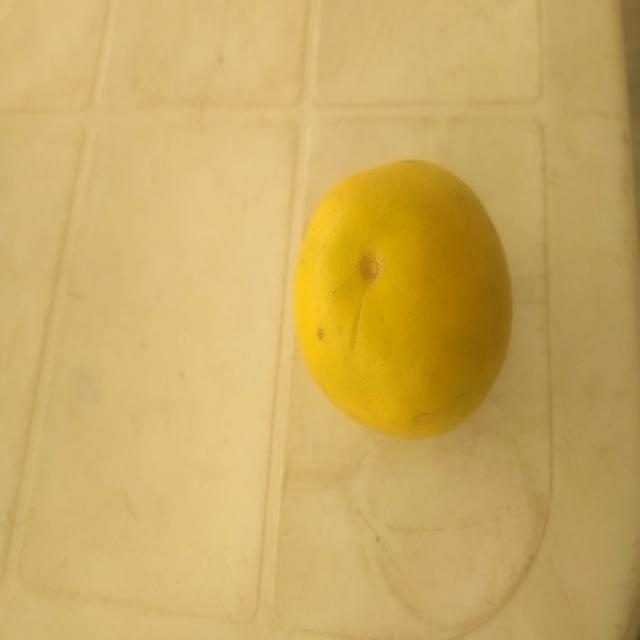agrume: (276, 144, 528, 455)
